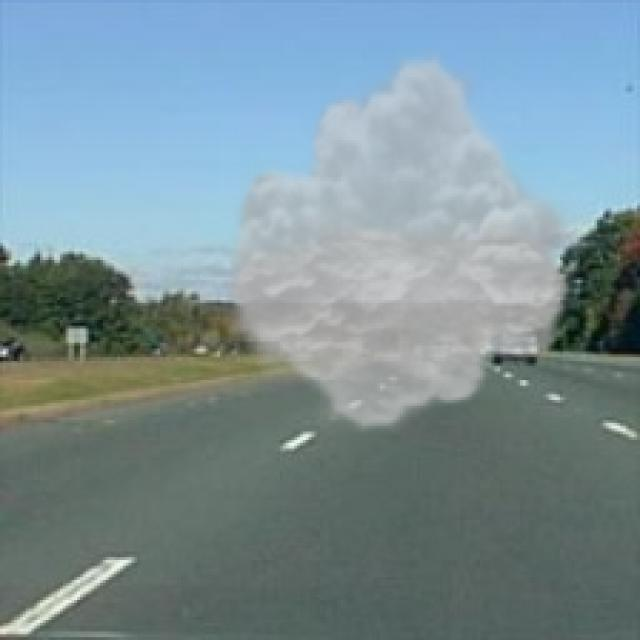smoke: (217, 49, 580, 434)
